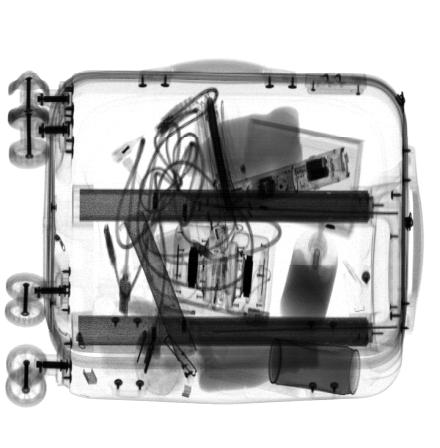Baton: (218, 147, 351, 214)
